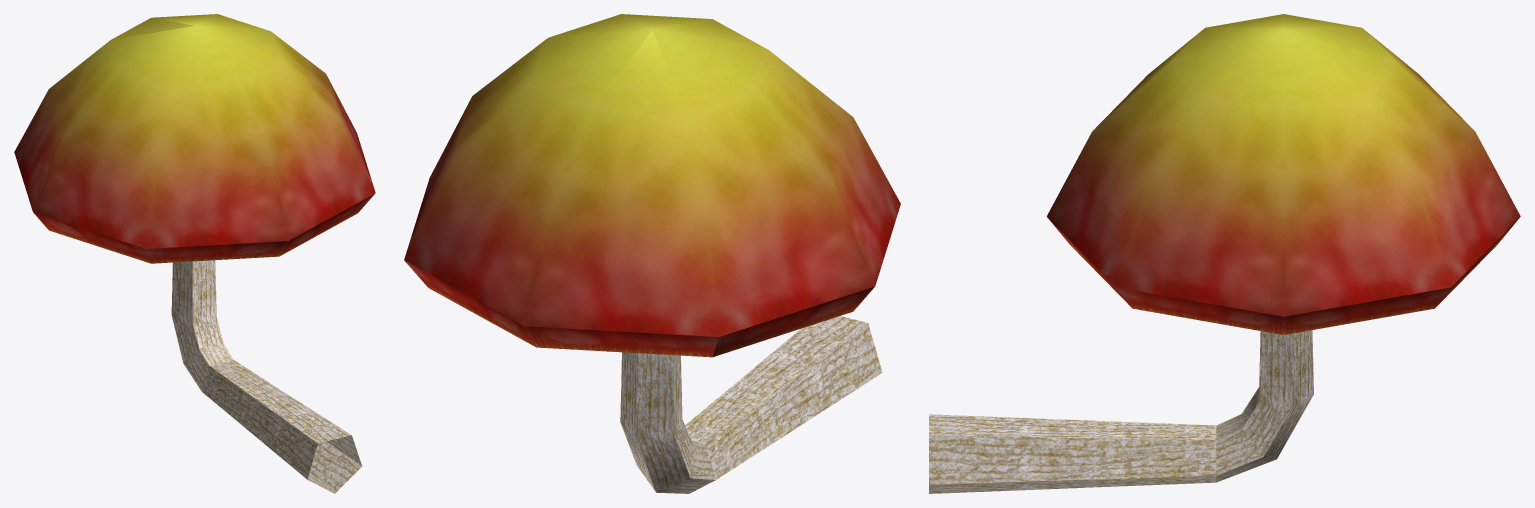
Rendered from Mushroom.obj.
3 views of the same model, side by side, from view 1: azimuth 30°, elevation 25°; view 2: azimuth 150°, elevation 25°; view 3: azimuth 270°, elevation 25° (orthographic). The views are drawn at different scales.
Size of the model in its own units: 40.12 by 43.27 by 50.06.
Materials: 1 (1 with a texture image).
